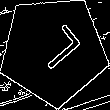L_SW: (25, 22, 82, 79)
